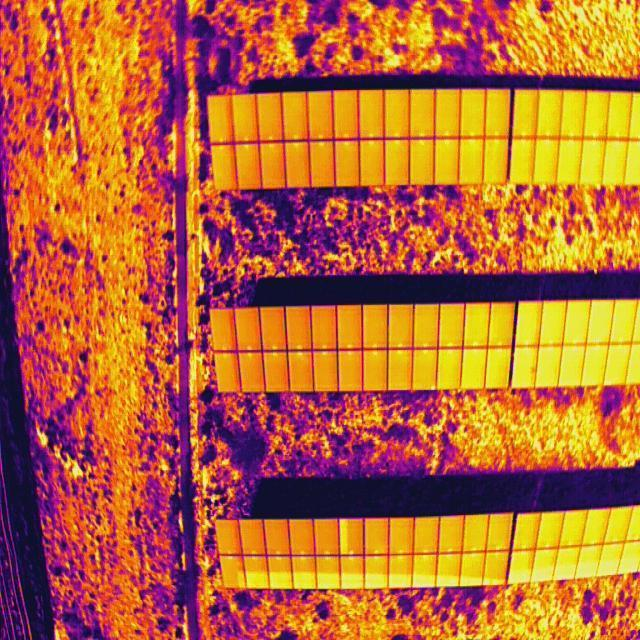diode: (340, 519, 351, 554)
